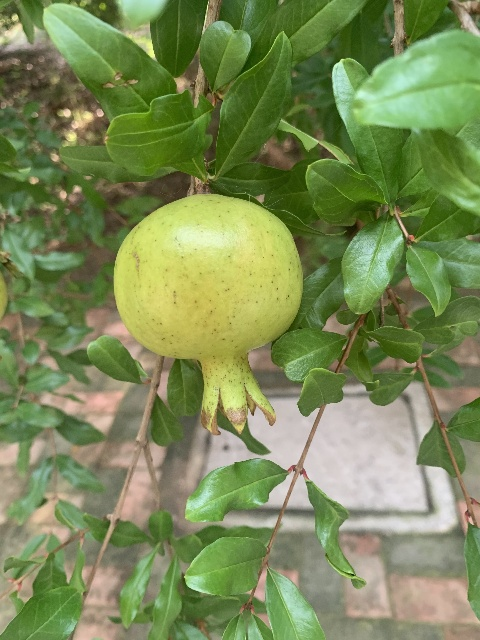mid-growth: (112, 194, 303, 436)
